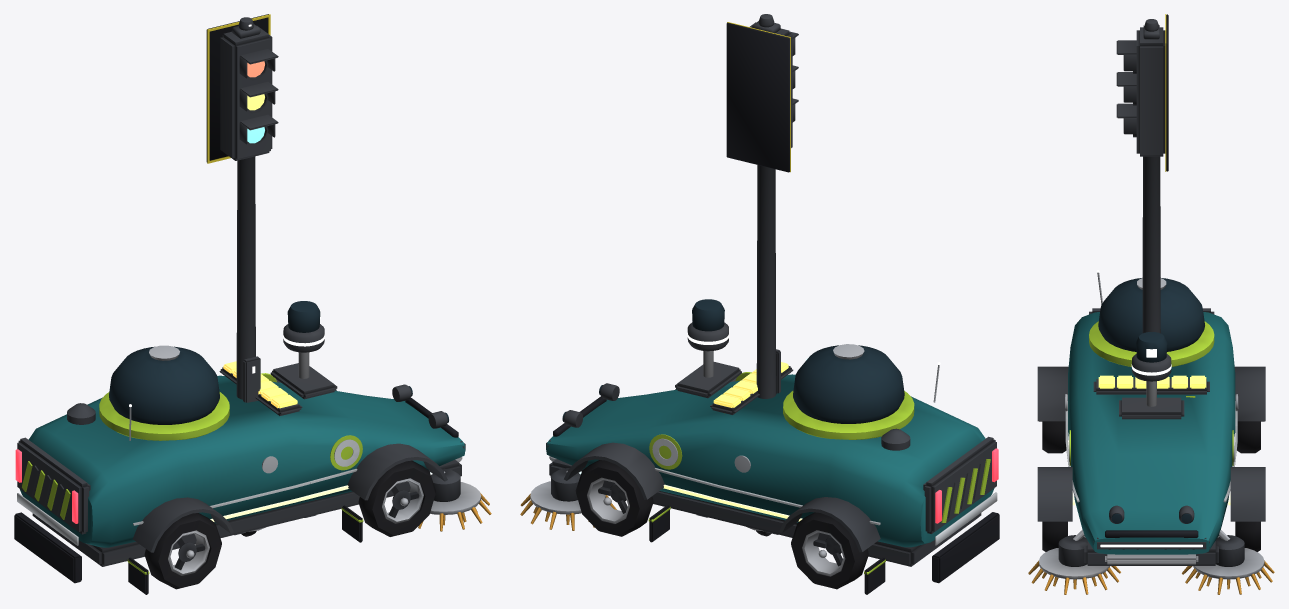
The model's file is street325_lo.glb.
The picture shows the model from 3 angles, left to right: view 1: azimuth 30°, elevation 25°; view 2: azimuth 150°, elevation 25°; view 3: azimuth 270°, elevation 25°; orthographic projection. The views are drawn at different scales.
Visible parts, largest first — view 1: st325_sweeper-teal, st325_sweeper-graph, st325_signal-graph, st325_sweeper-glass, st325_sweeper-tyre, st325_sweeper-lime, st325_sweeper-dark, st325_sweeper-steel, st325_signal-dark, st325_sweeper-white, st325_sweeper-spin-lidar, st325_sweeper-spin-brushR-disc (+2 smaller); view 2: st325_sweeper-teal, st325_sweeper-graph, st325_signal-dark, st325_sweeper-glass, st325_signal-graph, st325_sweeper-tyre, st325_sweeper-lime, st325_sweeper-dark, st325_sweeper-steel, st325_sweeper-white, st325_sweeper-spin-lidar, st325_sweeper-spin-brushL-disc (+1 smaller); view 3: st325_sweeper-teal, st325_sweeper-graph, st325_signal-graph, st325_sweeper-glass, st325_sweeper-tyre, st325_sweeper-lime, st325_sweeper-steel, st325_sweeper-spin-brushL-disc, st325_sweeper-spin-brushR-disc, st325_sweeper-spin-lidar, st325_sweeper-dark, st325_sweeper-spin-brushR-bristle (+6 smaller).
Boxes of the visible parts, x1,y1,x2,y2 form: st325_sweeper-teal: (20,375,465,547); st325_sweeper-graph: (17,324,465,570); st325_signal-graph: (220,17,278,402); st325_sweeper-glass: (109,346,448,424); st325_sweeper-tyre: (144,460,435,589); st325_sweeper-lime: (22,373,363,574); st325_sweeper-dark: (14,397,458,594); st325_sweeper-steel: (129,345,462,575); st325_signal-dark: (206,14,268,162); st325_sweeper-white: (17,439,359,545); st325_sweeper-spin-lidar: (287,301,320,332); st325_sweeper-spin-brushR-disc: (409,482,481,514); st325_sweeper-teal: (546,374,994,547); st325_sweeper-graph: (546,322,996,566); st325_signal-dark: (726,22,789,172); st325_sweeper-glass: (562,345,904,423); st325_signal-graph: (750,14,798,398); st325_sweeper-tyre: (575,460,868,589); st325_sweeper-lime: (648,372,990,574); st325_sweeper-dark: (553,396,999,594); st325_sweeper-steel: (549,344,939,576); st325_sweeper-white: (652,438,997,545); st325_sweeper-spin-lidar: (692,299,724,331); st325_sweeper-spin-brushL-disc: (530,481,605,514); st325_sweeper-teal: (1068,312,1235,554); st325_sweeper-graph: (1037,308,1265,566); st325_signal-graph: (1116,19,1165,333); st325_sweeper-glass: (1098,278,1204,523); st325_sweeper-tyre: (1042,421,1260,551); st325_sweeper-lime: (1069,321,1233,465); st325_sweeper-steel: (1065,272,1238,564); st325_sweeper-spin-brushL-disc: (1193,548,1264,579); st325_sweeper-spin-brushR-disc: (1039,548,1109,579); st325_sweeper-spin-lidar: (1136,332,1167,362); st325_sweeper-dark: (1039,421,1264,549); st325_sweeper-spin-brushR-bristle: (1028,560,1120,594).
Bounding box in the file's own units: 3.82 × 4.7 × 2.12.
